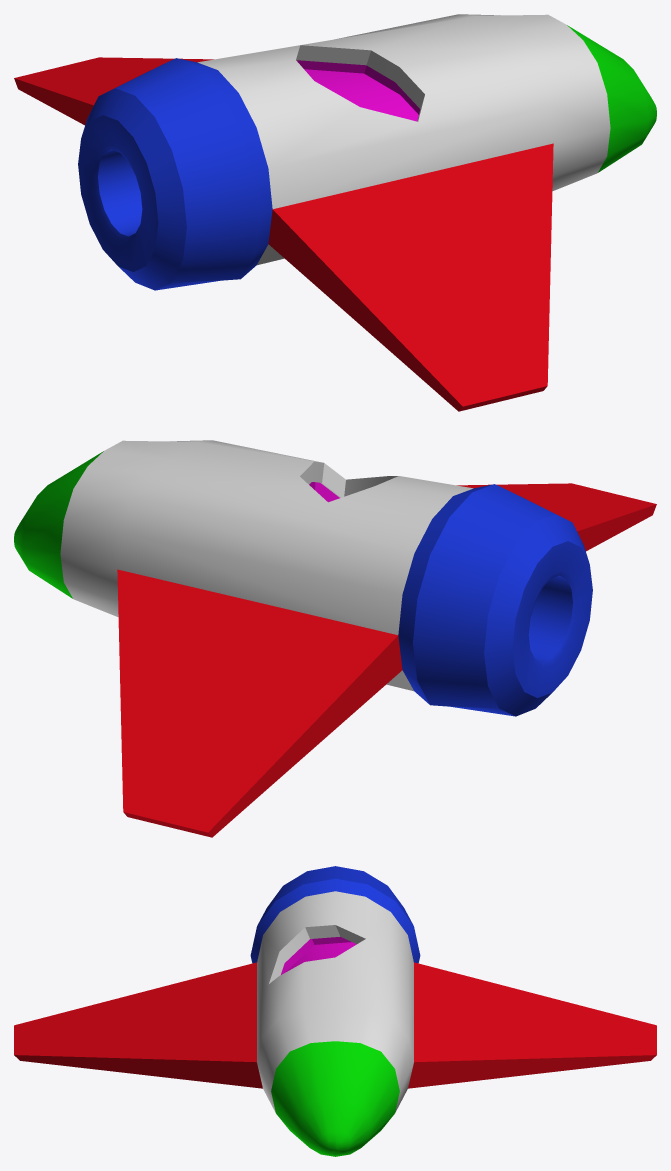
File: shipBroken.fbx
The picture shows the model from 3 angles, top to bottom: view 1: azimuth 30°, elevation 25°; view 2: azimuth 150°, elevation 25°; view 3: azimuth 270°, elevation 25°; orthographic projection. The views are drawn at different scales.
Visible parts, largest first — view 1: Cylinder; view 2: Cylinder; view 3: Cylinder.
Part boxes in pixels (left/top/right/bottom): Cylinder: left=14, top=14, right=656, bottom=411; Cylinder: left=14, top=440, right=656, bottom=837; Cylinder: left=14, top=866, right=656, bottom=1156.
Size of the model in its own units: 563 by 202 by 821.
